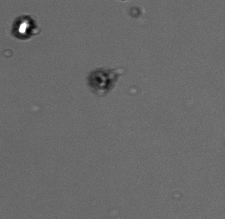Dead Cell: (90, 68, 113, 91)
Living Cell: (12, 15, 35, 40)
